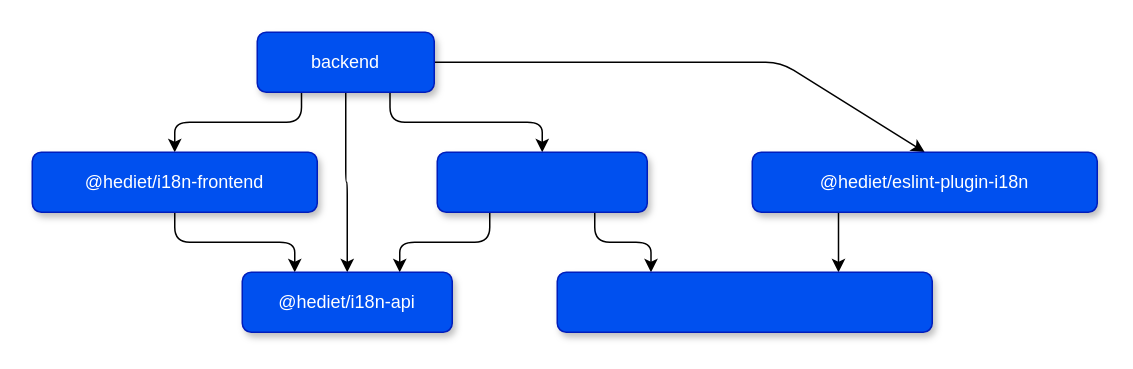
The diagram is 1133 pixels wide and 369 high, and some of its shapes have lost their labels. Here are the shapes that lost their labels. From the top down, the centre of each, then its label:
(x=543, y=184): @hediet/i18n-cli
(x=745, y=304): @hediet/i18n-static-analysis
